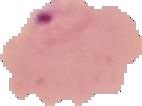parasitized: (25, 6, 94, 55)
